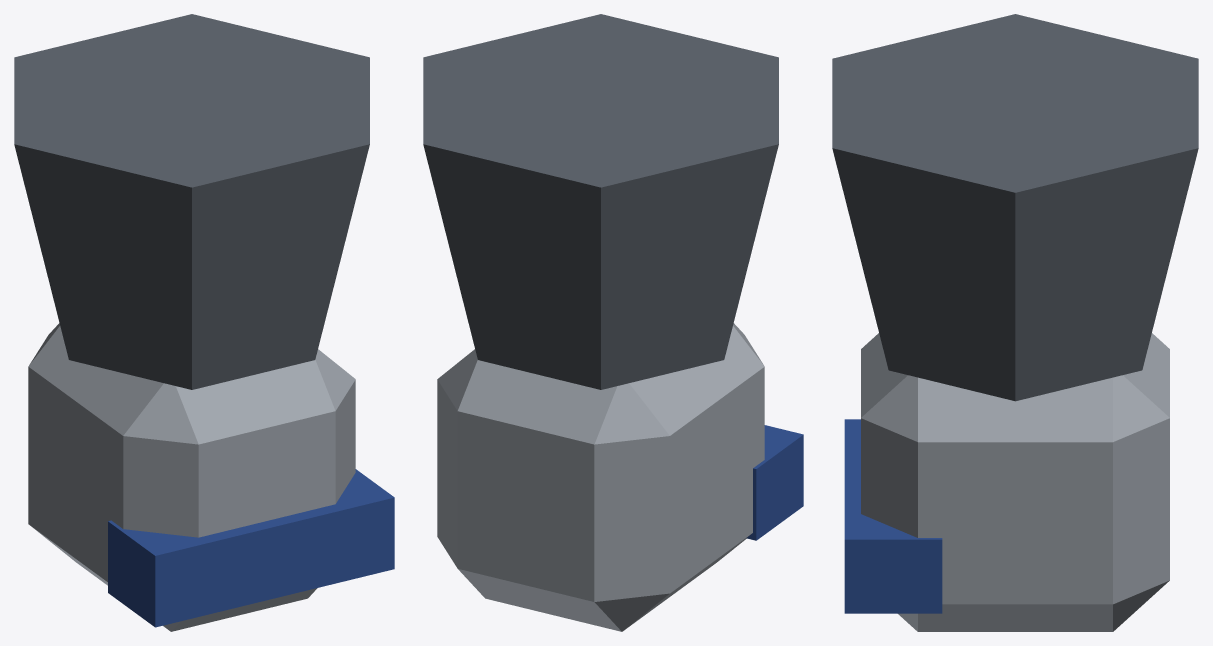
The model's file is knight_gauntlets.glb.
3 views of the same model, side by side, from view 1: azimuth 30°, elevation 25°; view 2: azimuth 150°, elevation 25°; view 3: azimuth 270°, elevation 25° (orthographic). The views are drawn at different scales.
Visible parts, largest first — view 1: knight_gauntlets; view 2: knight_gauntlets; view 3: knight_gauntlets.
Part boxes in pixels (bbox=[...]): knight_gauntlets: bbox=[14, 14, 394, 631]; knight_gauntlets: bbox=[423, 14, 803, 631]; knight_gauntlets: bbox=[832, 14, 1198, 631].
Size of the model in its own units: 0.26 by 0.335 by 0.2252.
